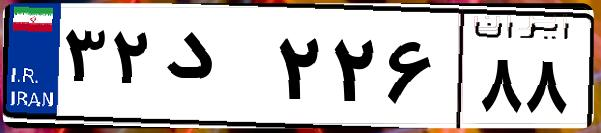2: (270, 28, 330, 110), (330, 28, 385, 110), (110, 28, 158, 98)
3: (57, 26, 110, 100)
6: (385, 28, 445, 110)
8: (475, 38, 525, 113), (525, 38, 570, 115)
د: (158, 20, 270, 120)
